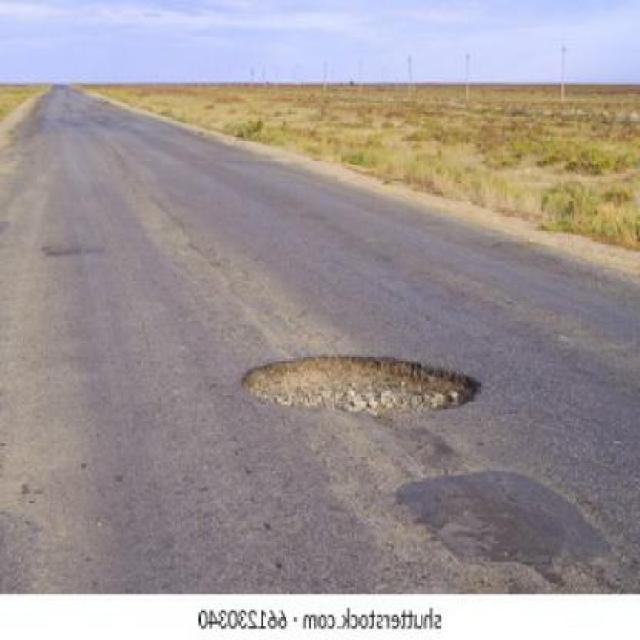Pothole: (237, 355, 484, 414)
